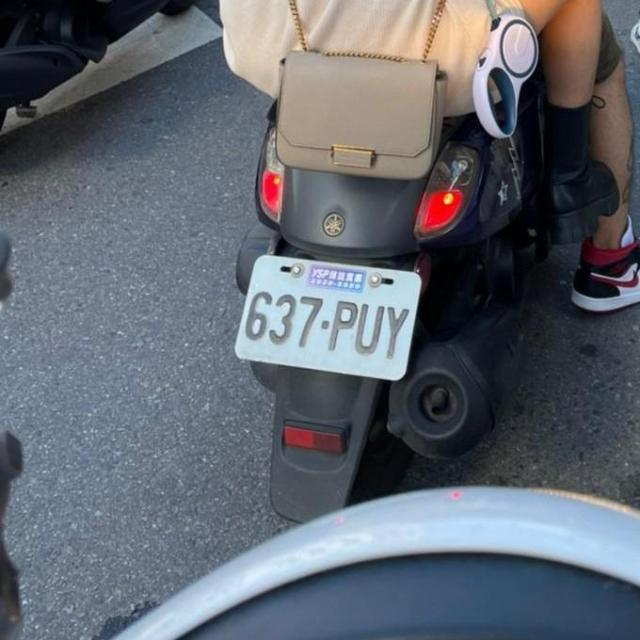W: (230, 243, 426, 388)
